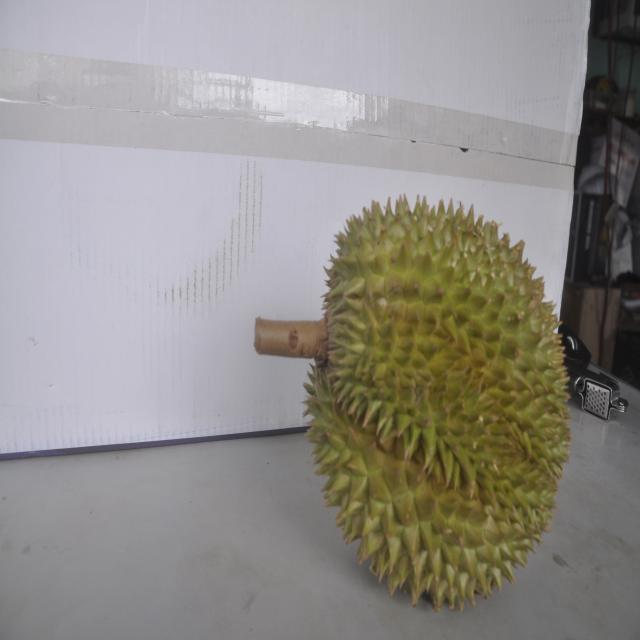mature: (306, 192, 575, 606)
